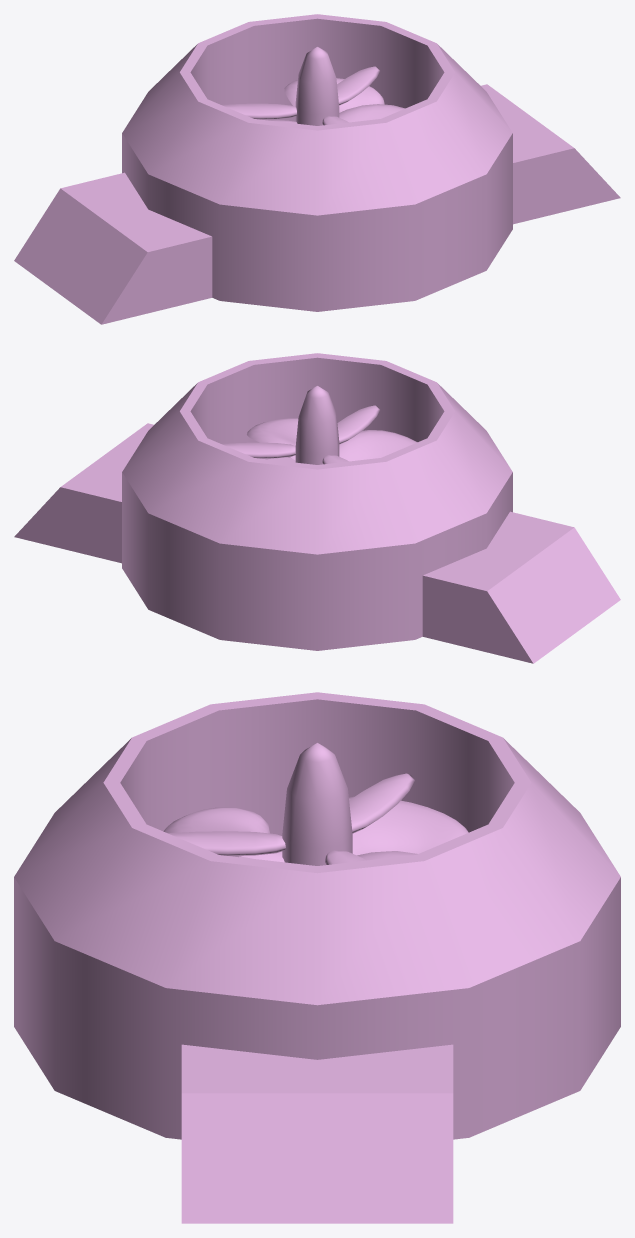
Rendered from Ventilador.fbx.
3 renders of one model, top to bottom at view 1: azimuth 30°, elevation 25°; view 2: azimuth 150°, elevation 25°; view 3: azimuth 270°, elevation 25°, orthographic. The views are drawn at different scales.
Visible parts, largest first — view 1: Ventilador1, HeliceMenor, HeliceMaior; view 2: Ventilador1, HeliceMaior, HeliceMenor; view 3: Ventilador1, HeliceMaior, HeliceMenor.
Boxes of the visible parts, <box> form: Ventilador1: <box>14,14,620,324</box>; HeliceMenor: <box>222,66,379,125</box>; HeliceMaior: <box>265,78,405,123</box>; Ventilador1: <box>14,353,620,663</box>; HeliceMaior: <box>247,418,417,461</box>; HeliceMenor: <box>222,405,379,464</box>; Ventilador1: <box>14,692,620,1223</box>; HeliceMaior: <box>163,796,468,862</box>; HeliceMenor: <box>168,773,414,864</box>.
Bounding box in the file's own units: 38.58 × 12.97 × 25.12.
